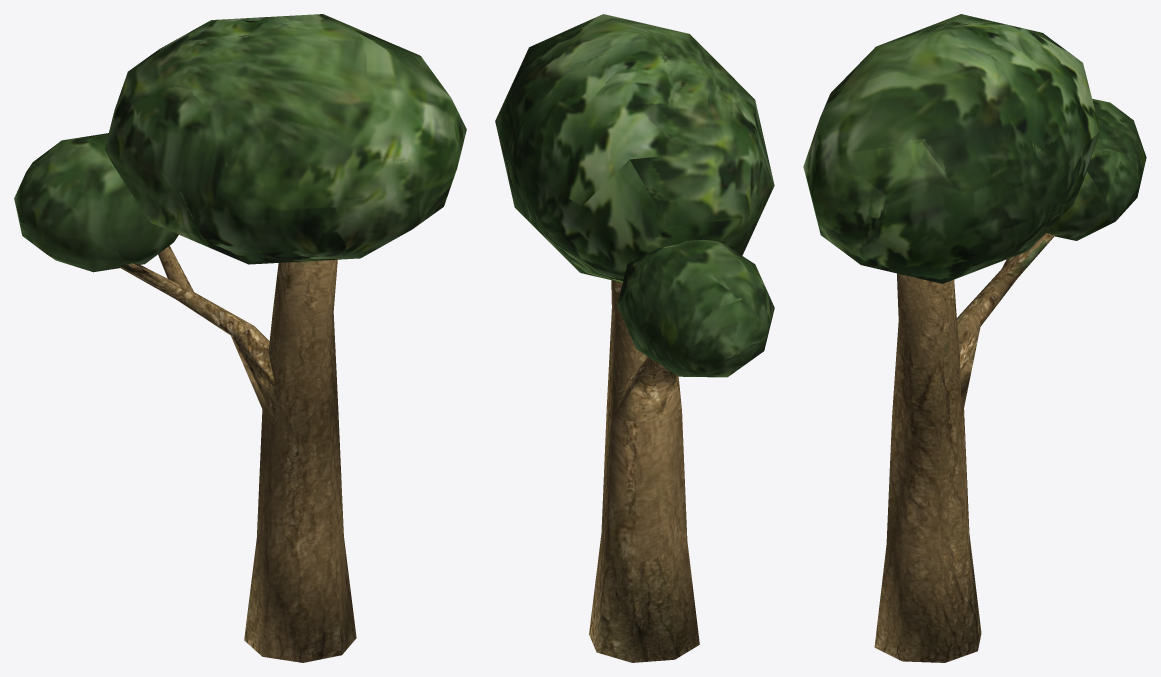
The model's file is tree_decidious.dae.
3 renders of one model, left to right at view 1: azimuth 30°, elevation 25°; view 2: azimuth 150°, elevation 25°; view 3: azimuth 270°, elevation 25°, orthographic.
Parts seen in each view (by area): view 1: tree_decidious; view 2: tree_decidious; view 3: tree_decidious.
Boxes of the visible parts, <box> form: tree_decidious: <box>14,14,466,662</box>; tree_decidious: <box>495,14,774,662</box>; tree_decidious: <box>803,14,1146,662</box>.
Size of the model in its own units: 7.02 by 6.11 by 11.92.
